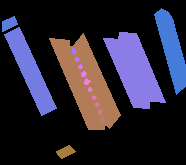parkingspot: (49, 38, 105, 129), (4, 27, 56, 115), (72, 33, 120, 128), (118, 32, 165, 102), (103, 38, 149, 108), (154, 8, 186, 94), (56, 145, 75, 158), (2, 16, 17, 31)
